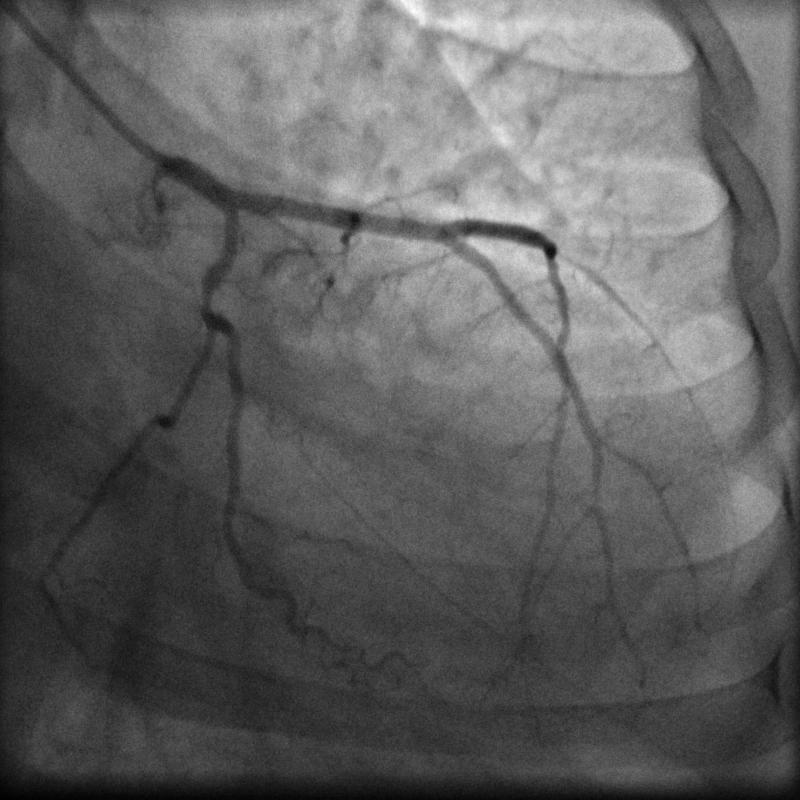Stenosis: (189, 278, 228, 315)
